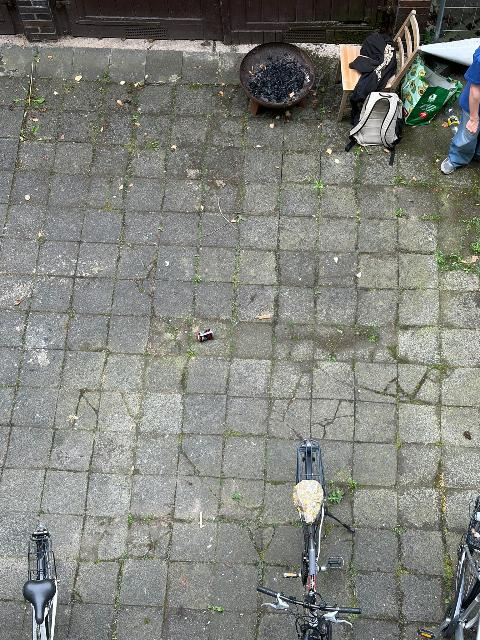can: (198, 329, 214, 342)
plastic_bottle: (445, 107, 461, 138)
